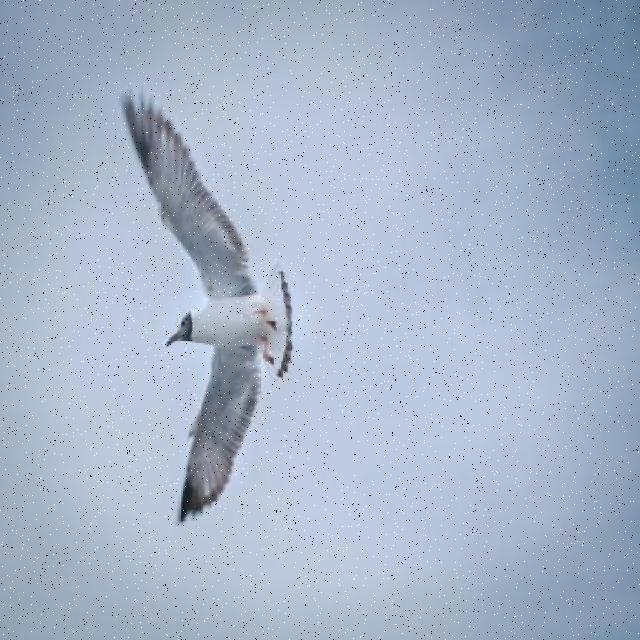bird: (119, 86, 293, 528)
